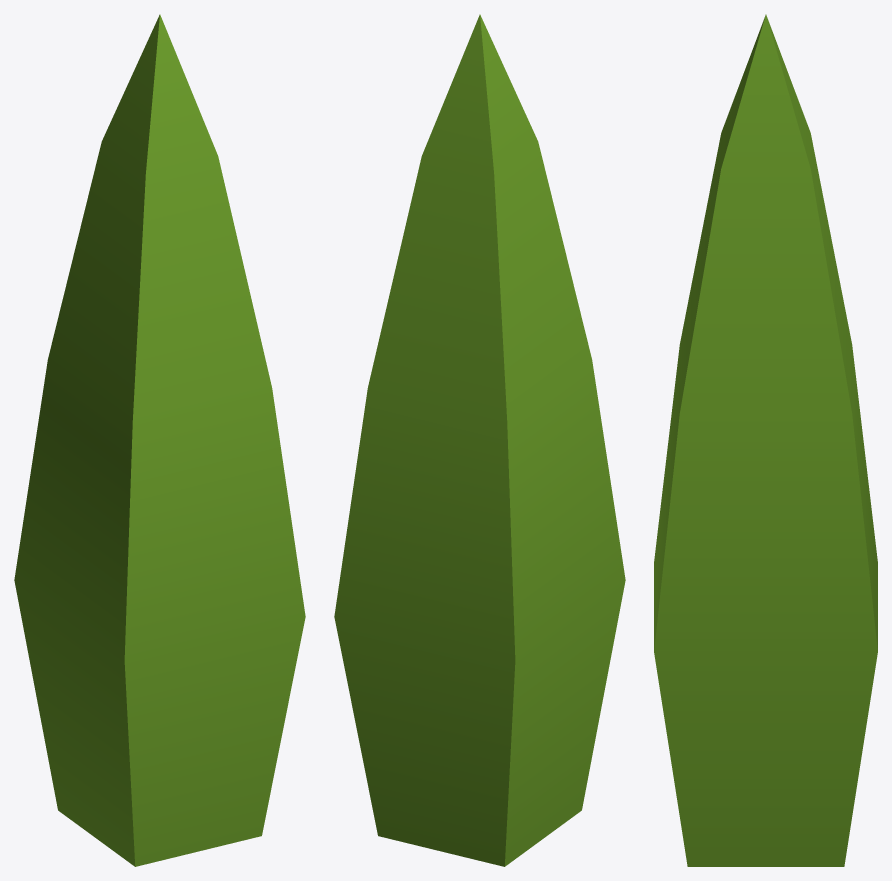
Rendered from thuja_01.fbx.
3 renders of one model, left to right at view 1: azimuth 30°, elevation 25°; view 2: azimuth 150°, elevation 25°; view 3: azimuth 270°, elevation 25°, orthographic.
Parts seen in each view (by area): view 1: thuja_01; view 2: thuja_01; view 3: thuja_01.
Boxes of the visible parts, x1=… form: thuja_01: x1=14, y1=14, x2=305, y2=866; thuja_01: x1=334, y1=14, x2=625, y2=866; thuja_01: x1=654, y1=14, x2=877, y2=866.
Size of the model in its own units: 0.8427 by 3.6 by 0.8892.
